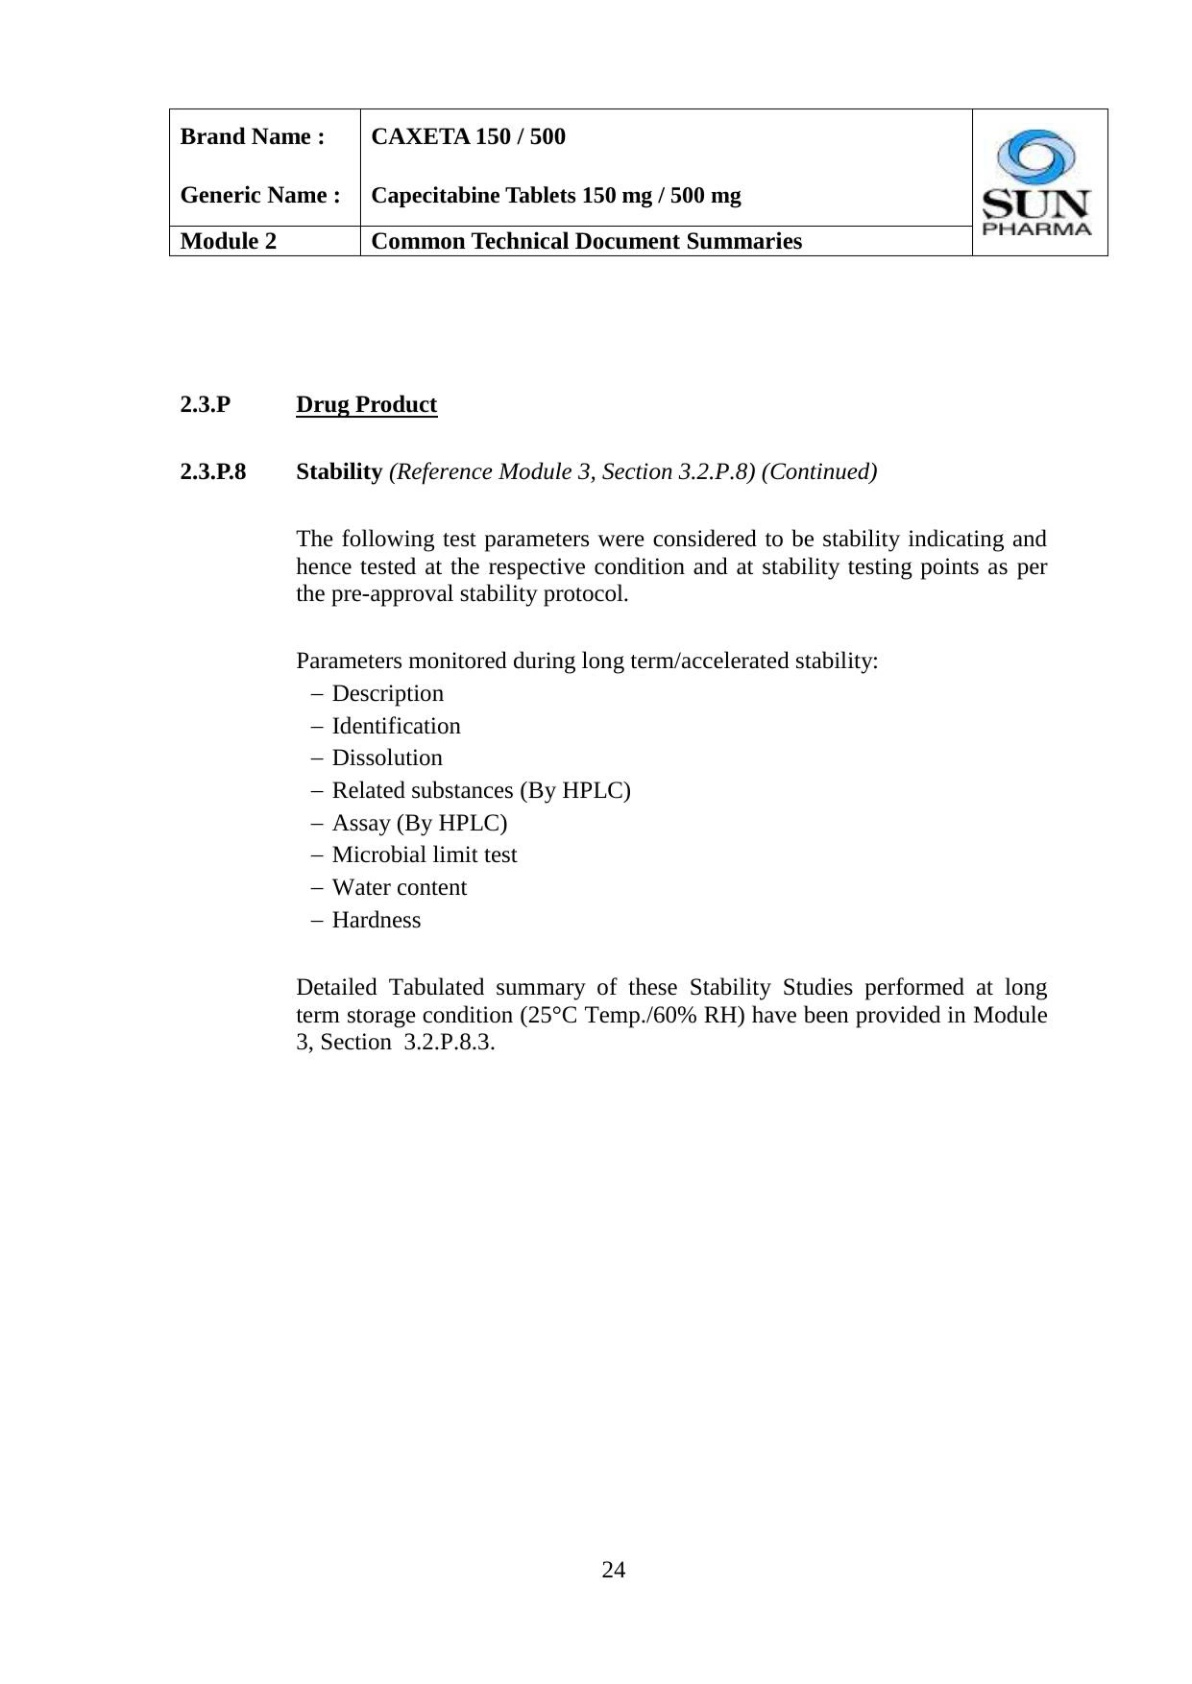merged_cells: (168, 107, 1109, 258)
